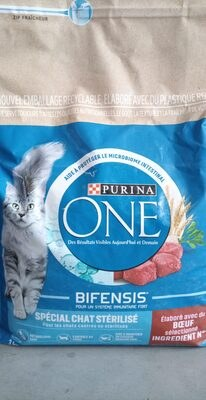Purina One: (10, 20, 196, 380)
